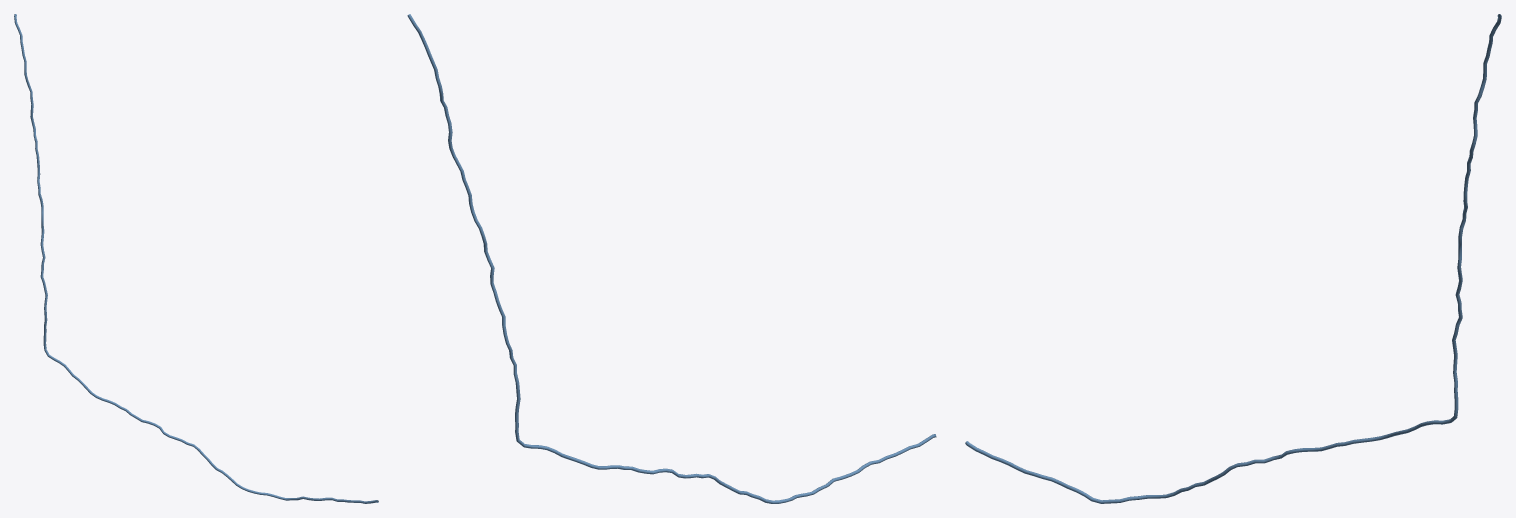
The model's file is sweep179.fbx.
3 views of the same model, side by side, from view 1: azimuth 90°, elevation 25°; view 2: azimuth 150°, elevation 25°; view 3: azimuth 270°, elevation 25° (orthographic). The views are drawn at different scales.
Parts seen in each view (by area): view 1: sweep179; view 2: sweep179; view 3: sweep179.
Part boxes in pixels (x1=…): sweep179: x1=14, y1=14, x2=378, y2=503; sweep179: x1=407, y1=14, x2=936, y2=503; sweep179: x1=965, y1=14, x2=1501, y2=503.
Bounding box in the file's own units: 1.75 × 3.38 × 2.72.
